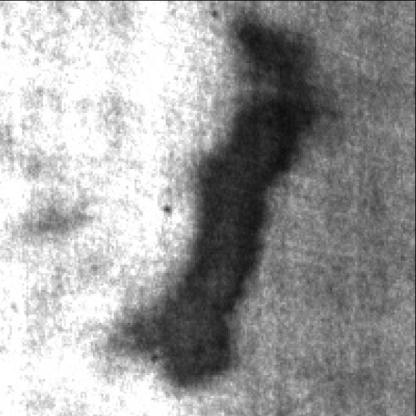patches: (131, 23, 320, 381)
